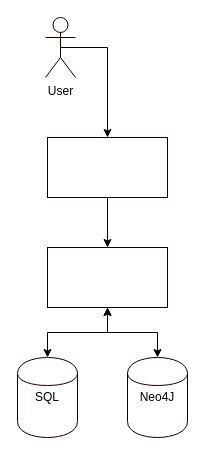
Image size: 205x455. Some labels were removed from this diagram. Each missing label, with the box of its shape:
WebClient: (46, 136, 168, 198)
WebService: (46, 246, 168, 308)
